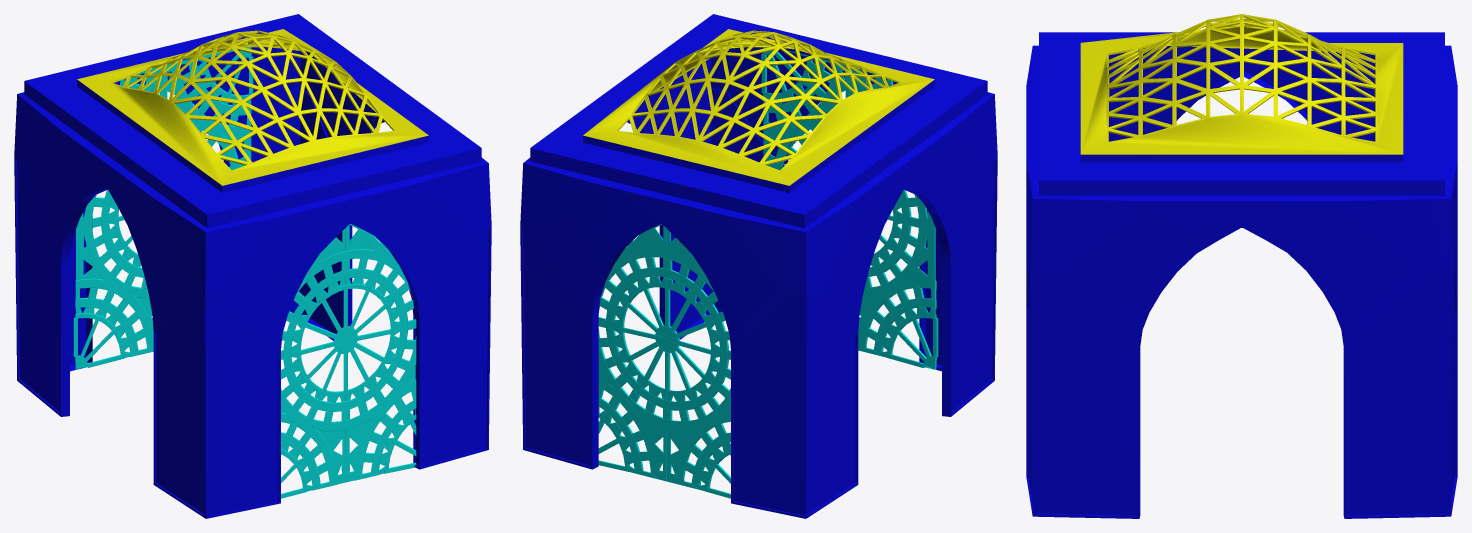
File: Building1_2.fbx
The picture shows the model from 3 angles, left to right: view 1: azimuth 30°, elevation 25°; view 2: azimuth 150°, elevation 25°; view 3: azimuth 270°, elevation 25°; orthographic projection. The views are drawn at different scales.
Visible parts, largest first — view 1: polySurface27575; view 2: polySurface27575; view 3: polySurface27575.
Part boxes in pixels (<box>): polySurface27575: <box>14,14,491,518</box>; polySurface27575: <box>520,14,997,518</box>; polySurface27575: <box>1026,14,1457,518</box>.
Bounding box in the file's own units: 1442 × 1793 × 1666.
